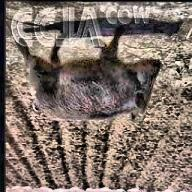boar: (13, 23, 163, 122)
